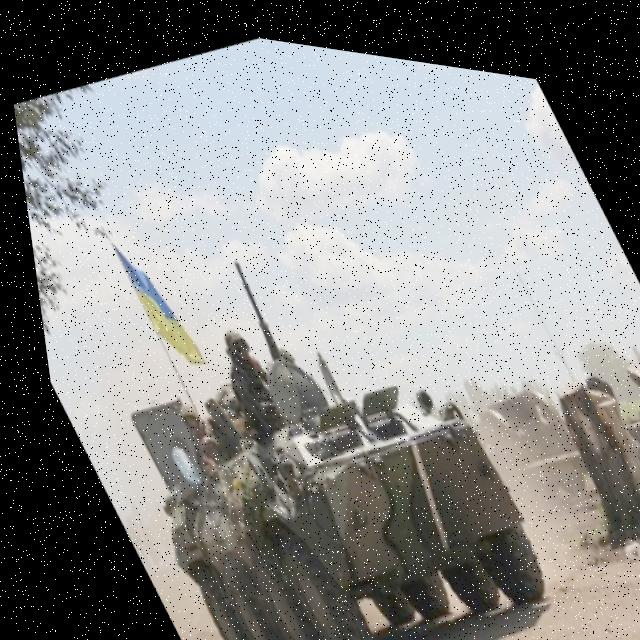MIL_APC: (62, 248, 577, 640)
